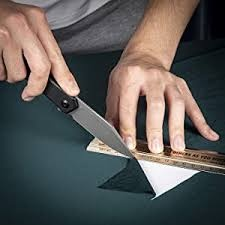knife: (15, 51, 137, 161)
